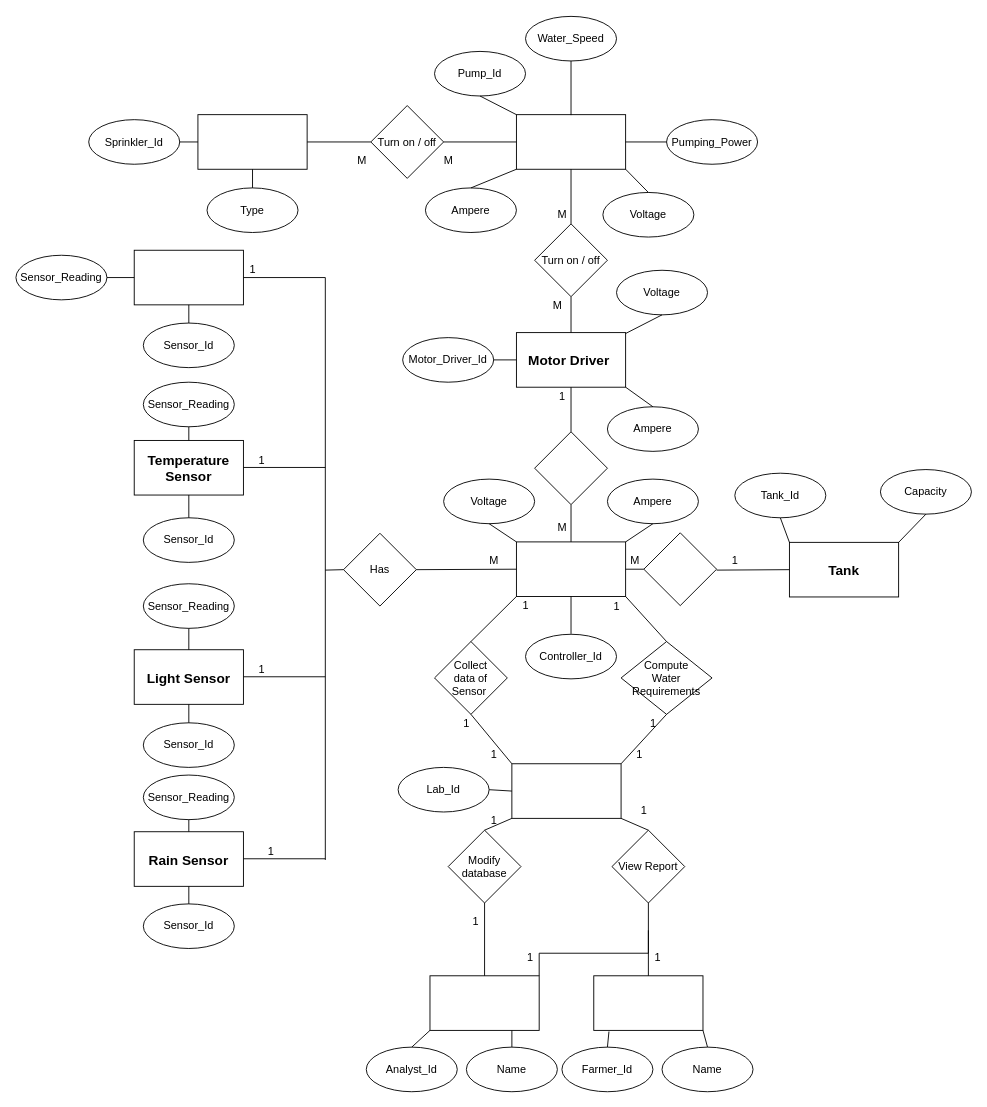
Some shapes in this 987 by 1107 pixel diagram are drawn without their labels. Each missing label, with the box of its shape:
Analyst: (429, 975, 539, 1030)
Deliver Water: (643, 532, 717, 606)
Farmer: (593, 975, 703, 1030)
Get Commands: (534, 431, 607, 505)
Lab View: (511, 763, 621, 818)
Moisture Sensor: (133, 249, 243, 305)
Ni MyRio Controller: (516, 541, 626, 597)
Pump: (516, 114, 626, 169)
Water Sprinklers: (197, 114, 307, 169)
